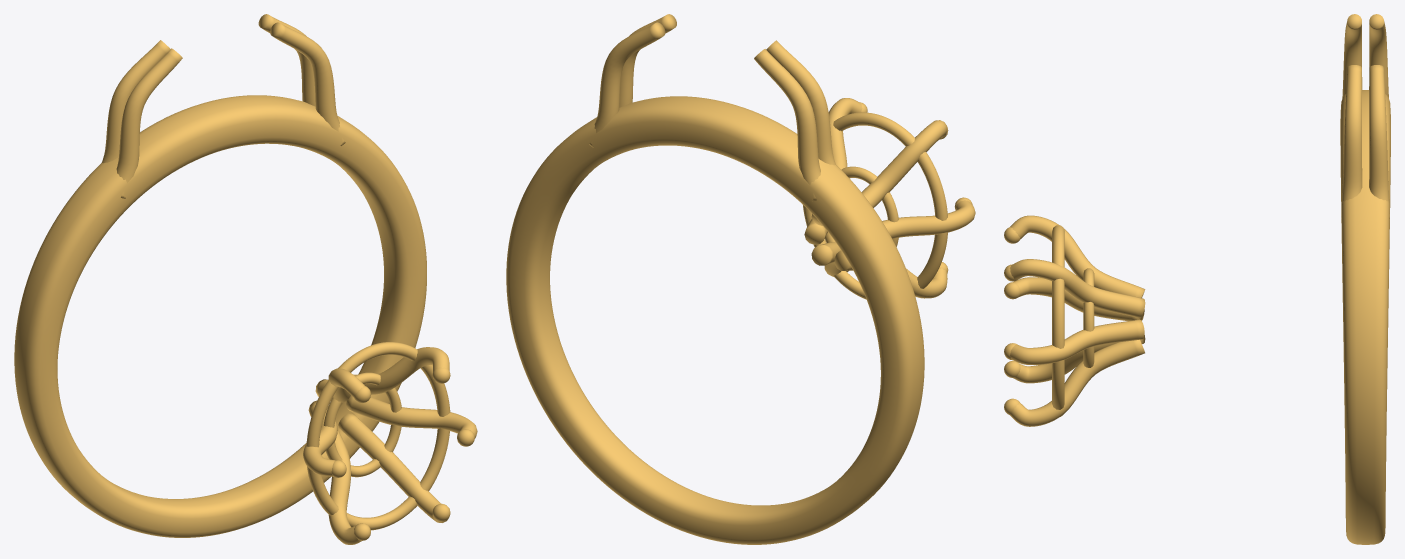
The model's file is Ring_Custom_SixProngOvalSolitaire.fbx.
The picture shows the model from 3 angles, left to right: view 1: azimuth 30°, elevation 25°; view 2: azimuth 150°, elevation 25°; view 3: azimuth 270°, elevation 25°; orthographic projection. The views are drawn at different scales.
Visible parts, largest first — view 1: Band, Head_Center, Cathedral; view 2: Band, Head_Center, Cathedral; view 3: Band, Head_Center, Cathedral.
Part boxes in pixels (x1,y1,x2,y2): Band: (14,95,426,537); Head_Center: (303,342,477,544); Cathedral: (101,14,345,198); Band: (506,96,924,544); Head_Center: (803,98,975,299); Cathedral: (589,14,835,201); Band: (1340,90,1390,544); Head_Center: (1004,215,1145,426); Cathedral: (1341,14,1389,218).
Size of the model in its own units: 0.0205 by 0.0243 by 0.0176.
